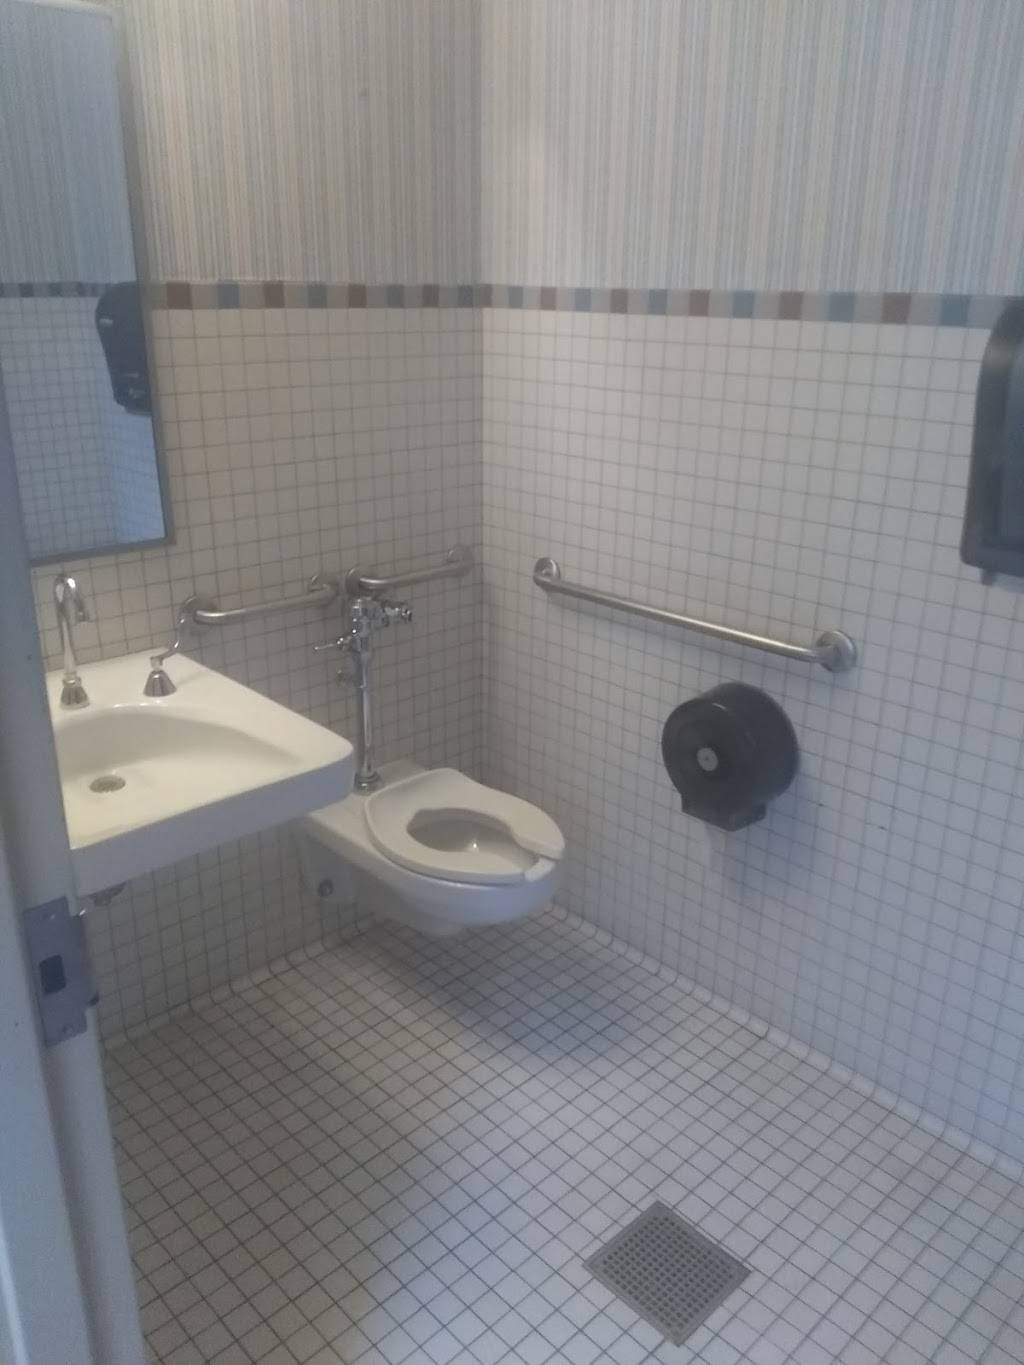dispenser: (662, 683, 801, 831), (951, 294, 1015, 608)
faucet: (51, 573, 93, 710), (145, 632, 187, 697)
restroom_assist_bar: (534, 557, 855, 673), (179, 571, 340, 636), (345, 545, 475, 598)
sink: (45, 646, 355, 907)
toilet: (300, 759, 567, 936)
toilet_handle: (293, 630, 376, 668)
